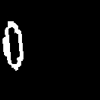chain: (3, 22, 22, 69)
